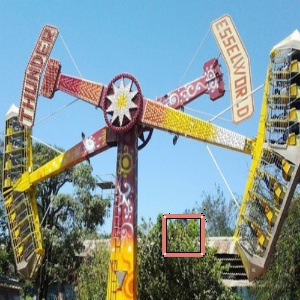square: (161, 213, 205, 257)
